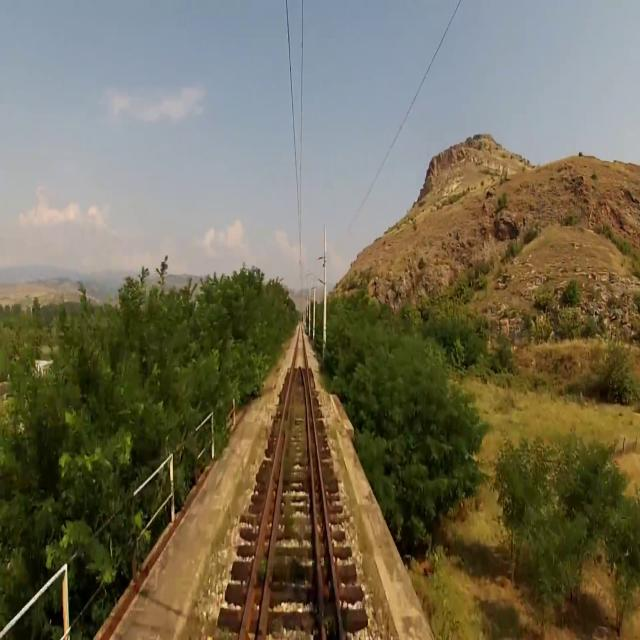rail-track: (264, 370, 319, 639), (243, 406, 287, 639), (310, 409, 339, 639)
